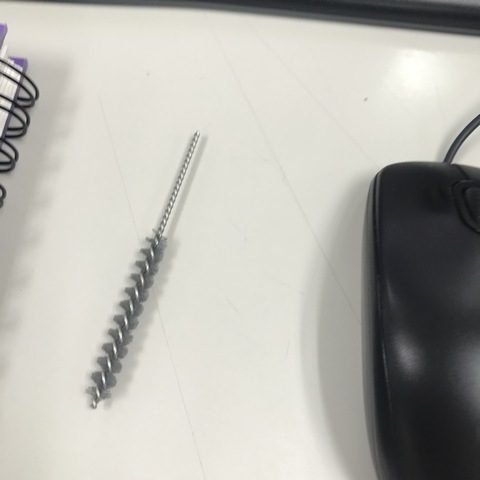Twist Brush-A: (75, 125, 205, 412)
